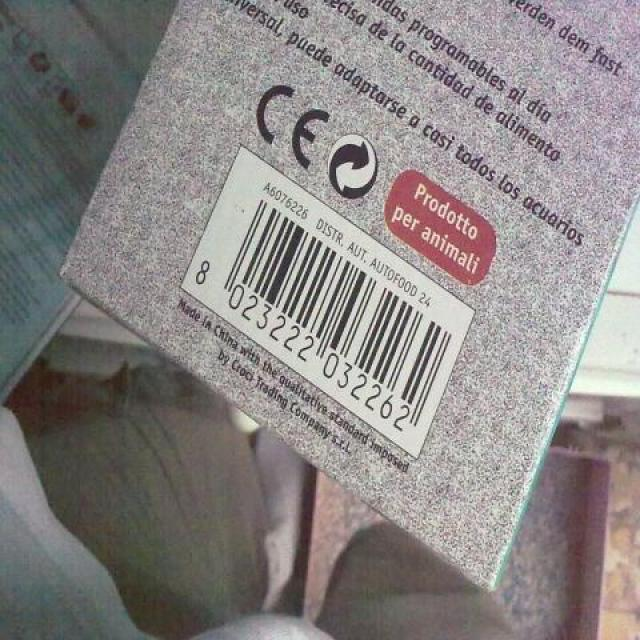Barcode: (176, 141, 476, 462)
